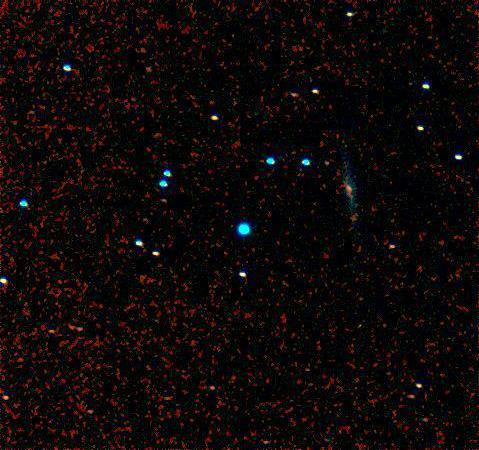star: (341, 205, 371, 235)
